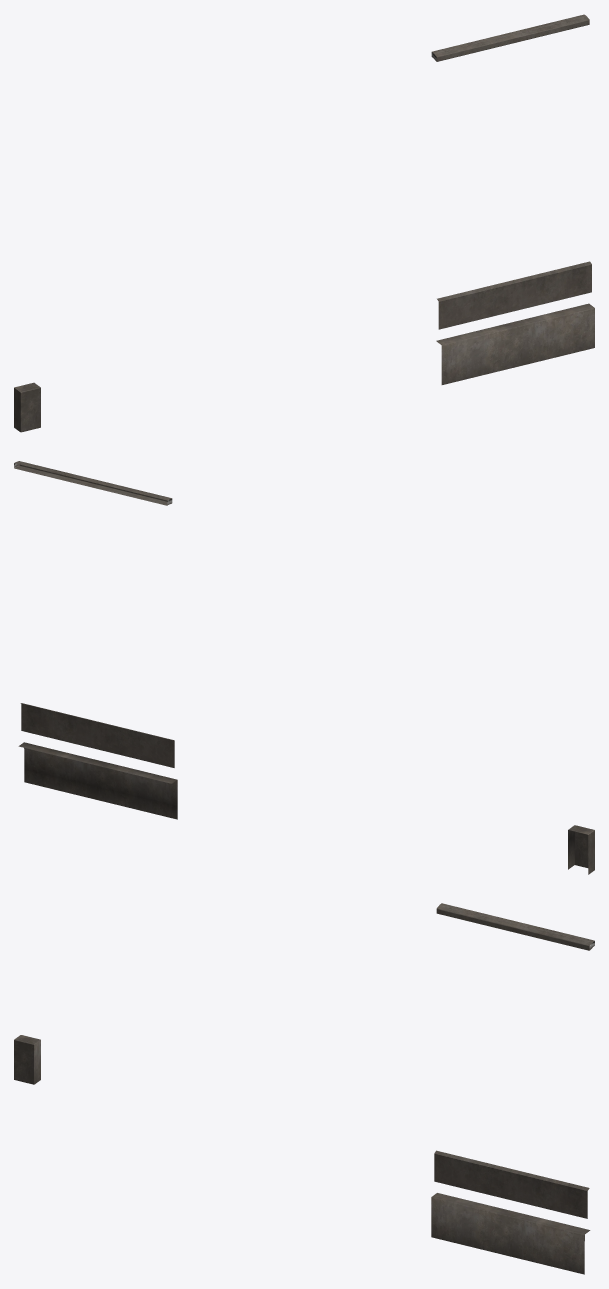
The model's file is facade_kit.glb.
3 renders of one model, top to bottom at view 1: azimuth 30°, elevation 25°; view 2: azimuth 150°, elevation 25°; view 3: azimuth 330°, elevation 25°, orthographic.
Parts seen in each view (by area): view 1: base_standard_standard_01, dado_standard_standard_01, cornice03_standard_standard_01, dado_pier_pedestal_01; view 2: base_standard_standard_01, dado_standard_standard_01, cornice03_standard_standard_01, dado_pier_pedestal_01; view 3: base_standard_standard_01, dado_standard_standard_01, cornice03_standard_standard_01, dado_pier_pedestal_01.
Boxes of the visible parts, x1=… form: base_standard_standard_01: x1=436, y1=303, x2=594, y2=384; dado_standard_standard_01: x1=437, y1=261, x2=591, y2=329; cornice03_standard_standard_01: x1=431, y1=14, x2=589, y2=61; dado_pier_pedestal_01: x1=14, y1=382, x2=40, y2=432; base_standard_standard_01: x1=18, y1=742, x2=177, y2=819; dado_standard_standard_01: x1=20, y1=703, x2=174, y2=767; cornice03_standard_standard_01: x1=14, y1=461, x2=172, y2=505; dado_pier_pedestal_01: x1=568, y1=825, x2=594, y2=874; base_standard_standard_01: x1=431, y1=1193, x2=590, y2=1274; dado_standard_standard_01: x1=434, y1=1150, x2=589, y2=1218; cornice03_standard_standard_01: x1=436, y1=903, x2=594, y2=950; dado_pier_pedestal_01: x1=14, y1=1035, x2=40, y2=1084.
Size of the model in its own units: 11.2 by 6.1 by 0.3462.
3 materials, 3 textured.
